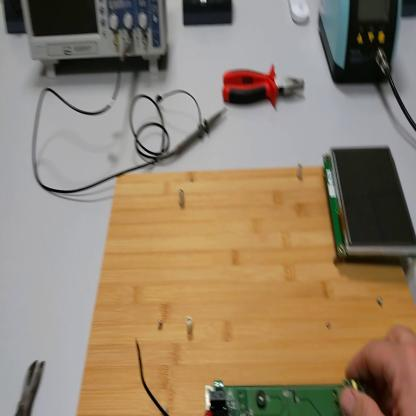hand: (339, 327, 416, 416)
low voltage board: (134, 336, 366, 416)
oscilloscope: (21, 1, 168, 79)
oscilloscope probe tip: (157, 109, 227, 160)
pliers: (222, 67, 307, 110), (16, 360, 46, 415)
socket: (4, 2, 28, 36), (403, 1, 416, 20)
welder station: (317, 1, 403, 87)
working area: (78, 155, 415, 415)
